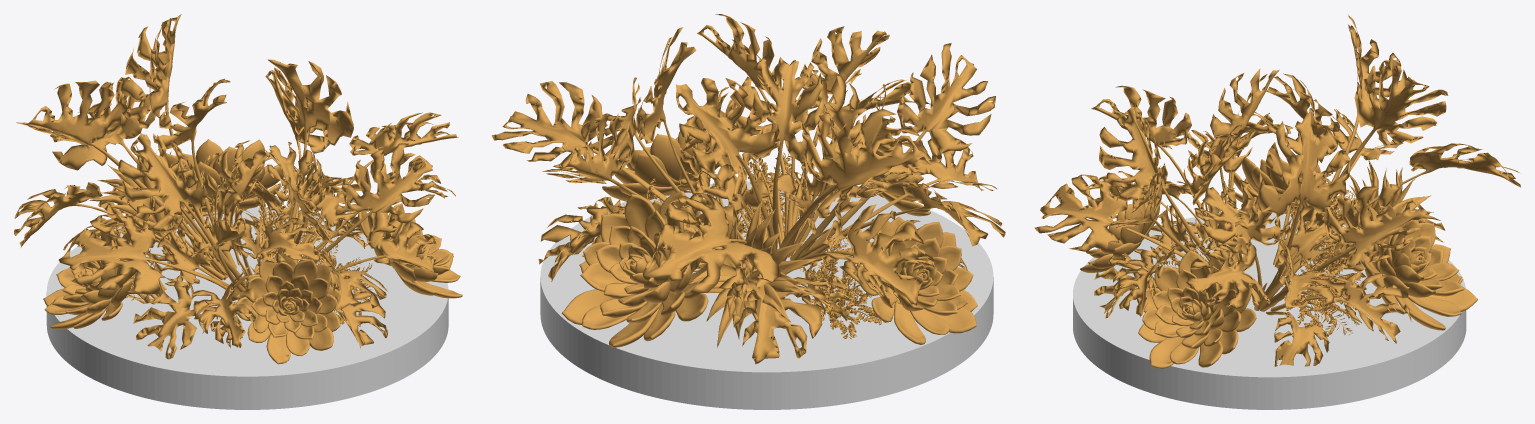
The model's file is lower_podium.glb.
The picture shows the model from 3 angles, left to right: view 1: azimuth 30°, elevation 25°; view 2: azimuth 150°, elevation 25°; view 3: azimuth 270°, elevation 25°; orthographic projection. The views are drawn at different scales.
Visible parts, largest first — view 1: PlantZZ001.002, Cylinder; view 2: PlantZZ001.002, Cylinder; view 3: PlantZZ001.002, Cylinder.
Part boxes in pixels (box(x1,y1,x2,y2)): PlantZZ001.002: box(14, 14, 462, 364); Cylinder: box(46, 207, 448, 409); PlantZZ001.002: box(491, 14, 1005, 364); Cylinder: box(540, 181, 993, 409); PlantZZ001.002: box(1034, 15, 1520, 368); Cylinder: box(1073, 212, 1466, 409).
Bounding box in the file's own units: 4.77 × 2.88 × 4.96.
Materials: 2 (1 with a texture image).
